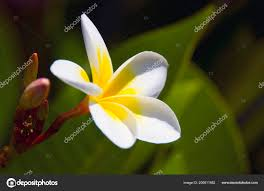frangipani: (50, 14, 182, 149)
